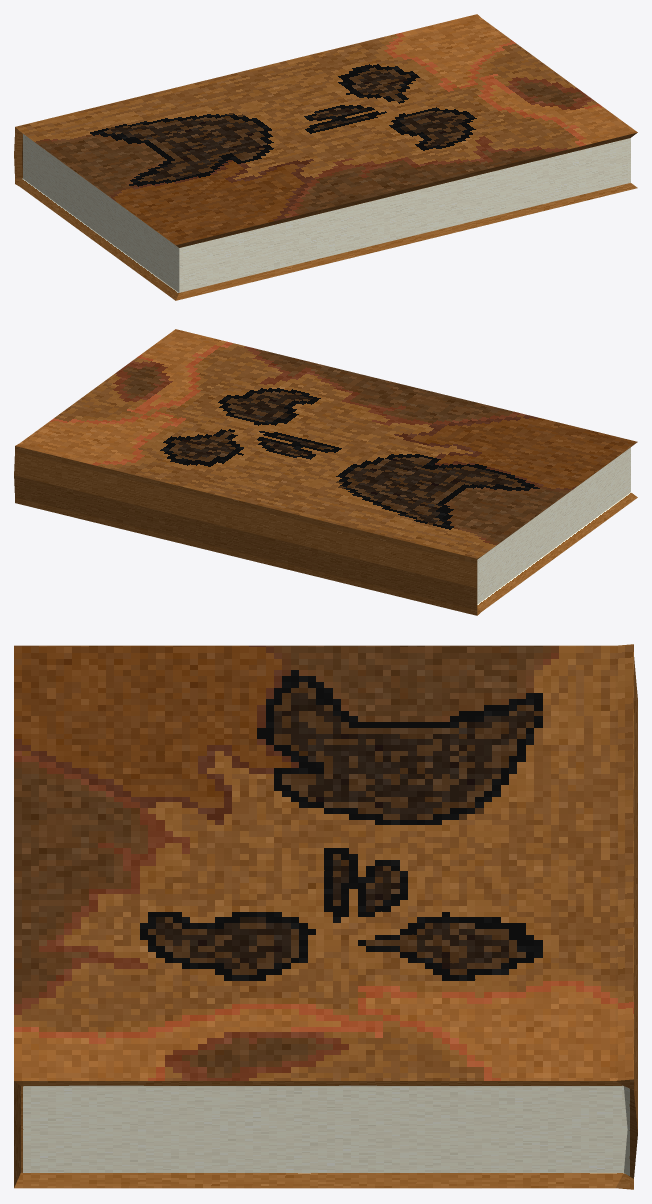
File: necronomicon.glb
The picture shows the model from 3 angles, top to bottom: view 1: azimuth 30°, elevation 25°; view 2: azimuth 150°, elevation 25°; view 3: azimuth 270°, elevation 25°; orthographic projection. The views are drawn at different scales.
Parts seen in each view (by area): view 1: Cube; view 2: Cube; view 3: Cube.
Part boxes in pixels (bbox=[...]): Cube: bbox=[14, 14, 637, 300]; Cube: bbox=[14, 329, 637, 615]; Cube: bbox=[14, 644, 637, 1189].
Size of the model in its own units: 4.16 by 0.4923 by 2.52.
Materials: 1 (1 with a texture image).
